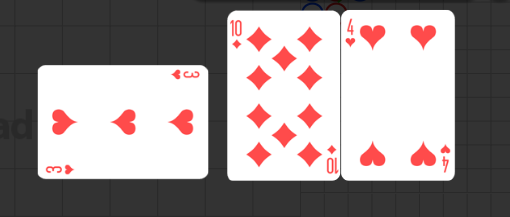10D: (230, 19, 243, 51)
3H: (44, 163, 77, 175)
4H: (439, 142, 452, 173)
